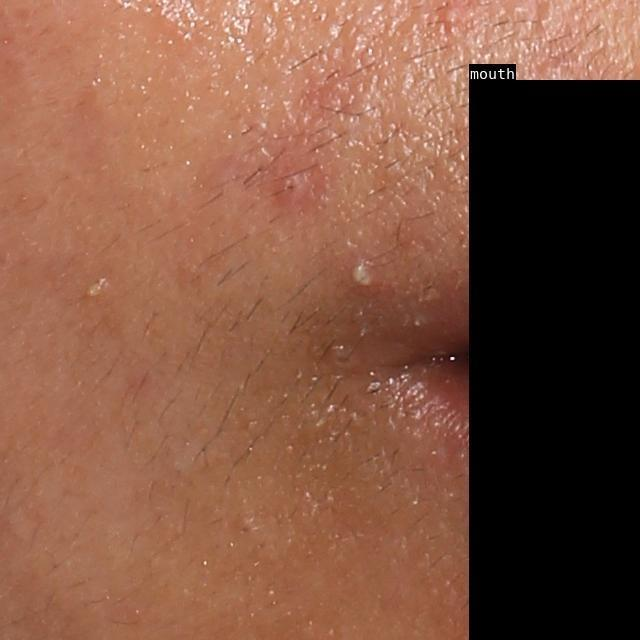papule: (276, 166, 309, 205)
pustule: (348, 256, 380, 297)
